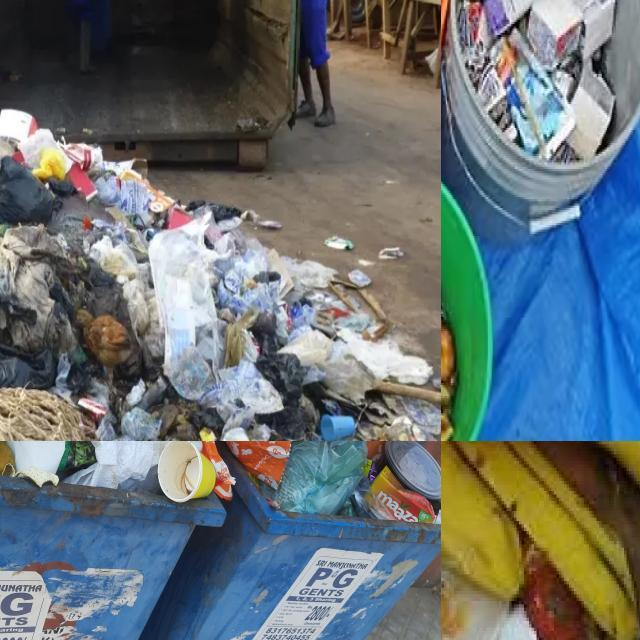Garbage: (0, 110, 441, 441), (441, 441, 640, 640), (0, 441, 441, 530), (458, 0, 615, 161)
Plastic: (385, 441, 441, 500)
Plastic_Bag: (262, 441, 367, 514), (69, 441, 171, 492), (349, 478, 394, 520)
Plastic_wraper: (57, 441, 96, 472), (366, 460, 378, 484), (433, 510, 441, 525)
Tetrapack: (458, 0, 517, 121), (508, 56, 576, 159), (568, 58, 615, 160), (370, 468, 435, 524), (573, 0, 615, 57), (484, 0, 539, 36)
